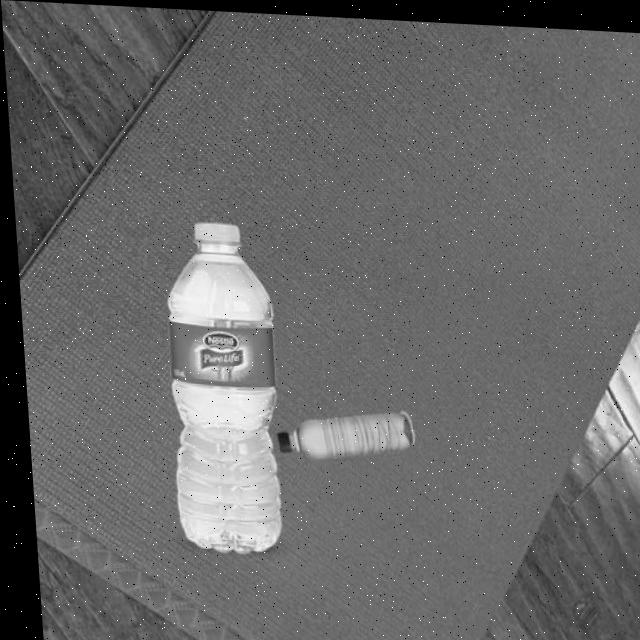bottle: (154, 216, 284, 554), (270, 400, 412, 460)
